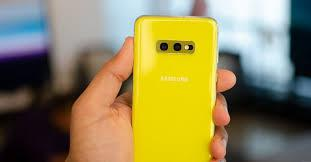Hand: (68, 36, 236, 162)
Smartphone: (135, 18, 221, 162)
